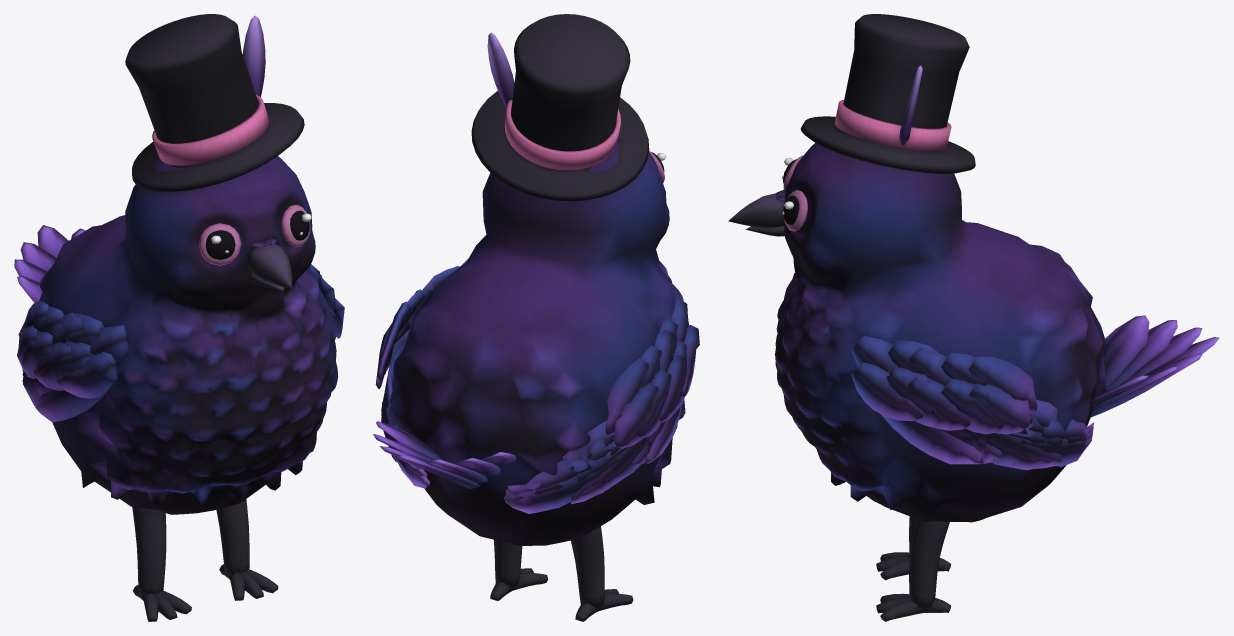
File: tophatcrow.fbx
3 renders of one model, left to right at view 1: azimuth 30°, elevation 25°; view 2: azimuth 150°, elevation 25°; view 3: azimuth 270°, elevation 25°, orthographic.
Parts seen in each view (by area): view 1: TopHatCrow_Body, TopHatCrow_Eyes; view 2: TopHatCrow_Body; view 3: TopHatCrow_Body.
Boxes of the visible parts, box(x1,y1,x2,y2) form: TopHatCrow_Body: box(14, 14, 344, 621); TopHatCrow_Eyes: box(205, 210, 309, 259); TopHatCrow_Body: box(373, 14, 699, 621); TopHatCrow_Body: box(728, 14, 1219, 621).
Size of the model in its own units: 1.55 by 3.08 by 2.42.
Materials: 2 (1 with a texture image).
